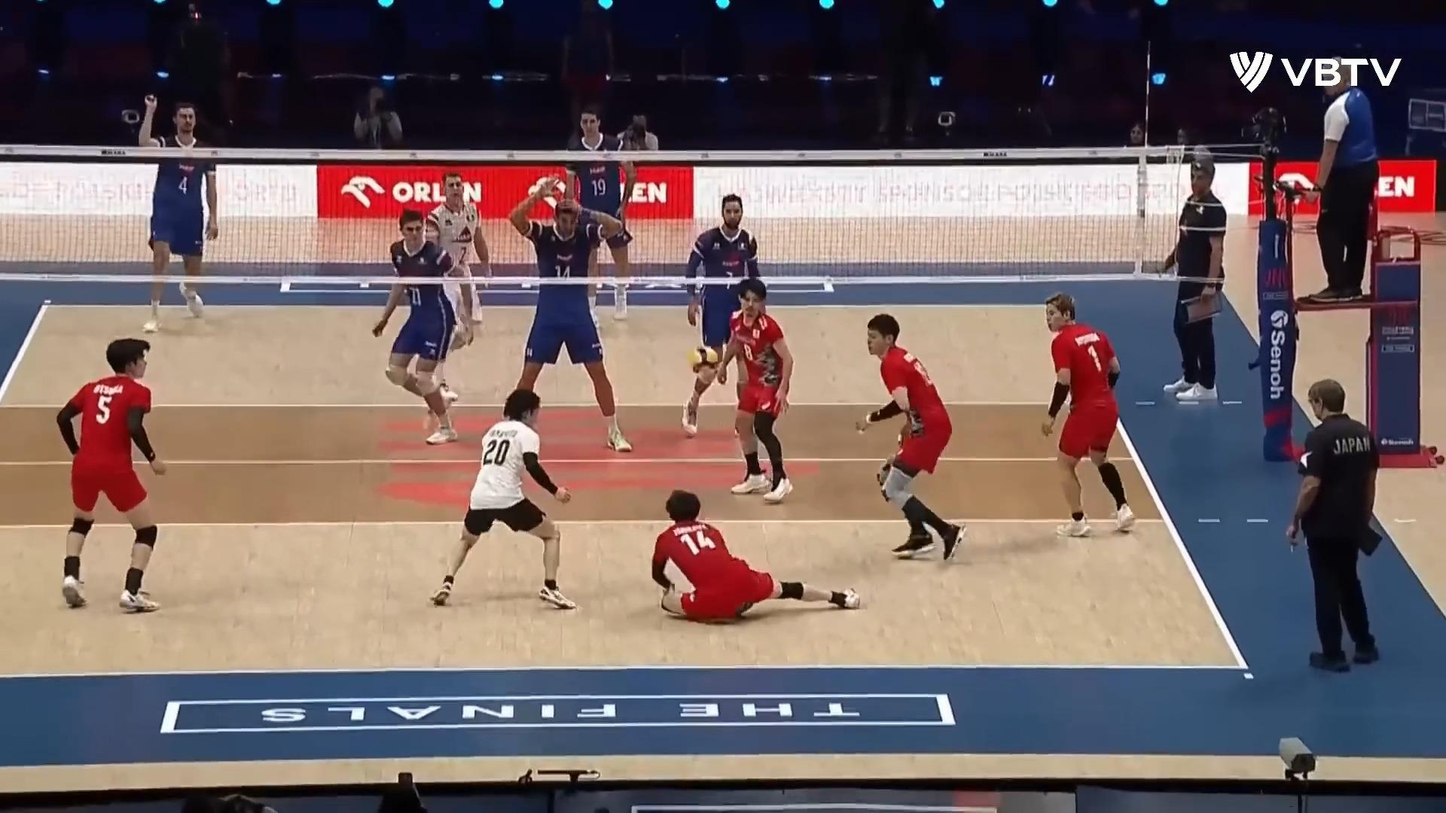ball: (690, 347, 719, 376)
